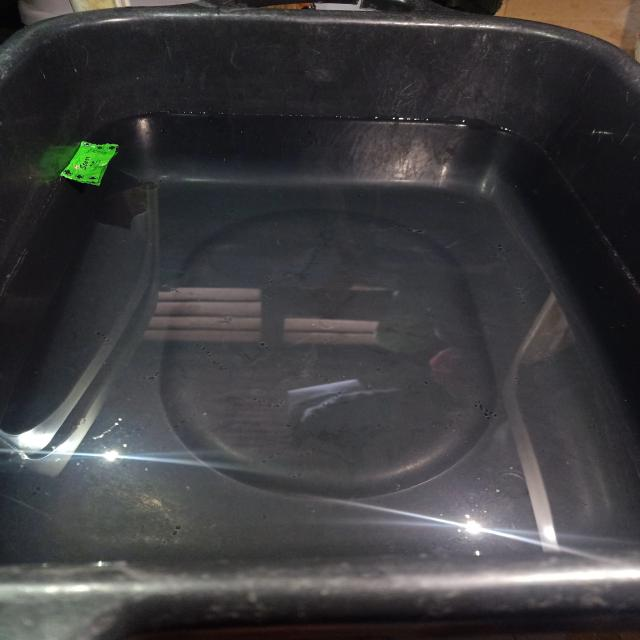Plastic Wrapper: (60, 141, 118, 185)
